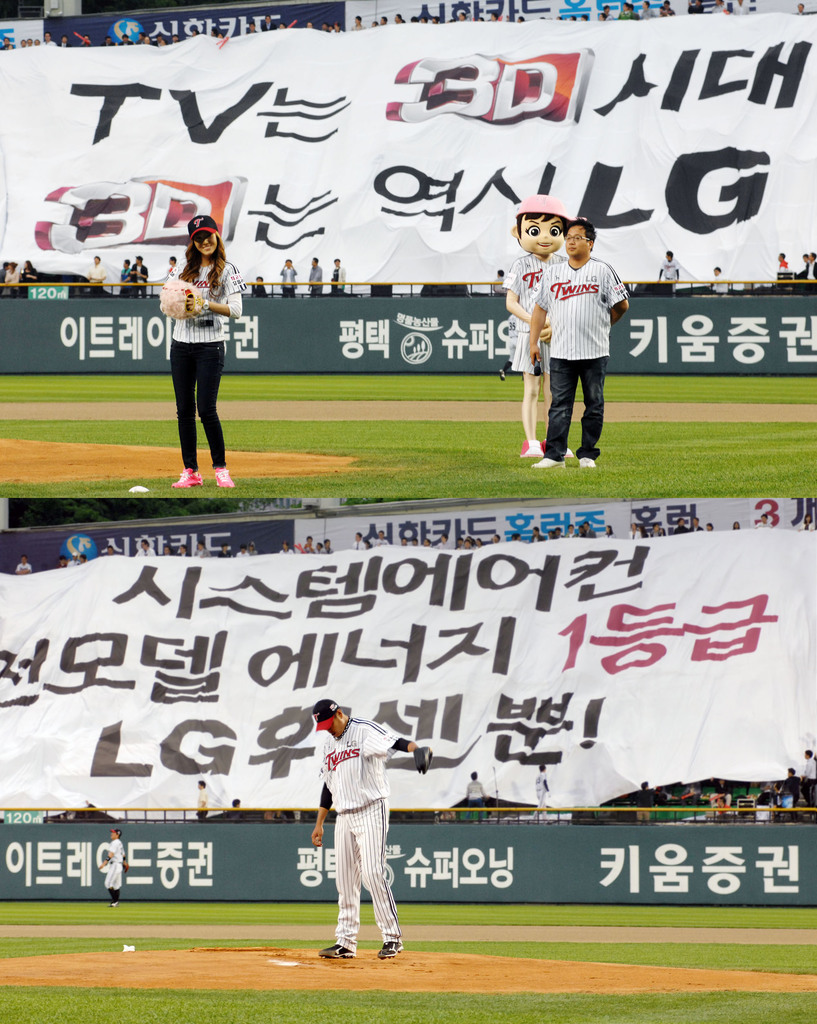Person: (0, 1, 816, 959)
